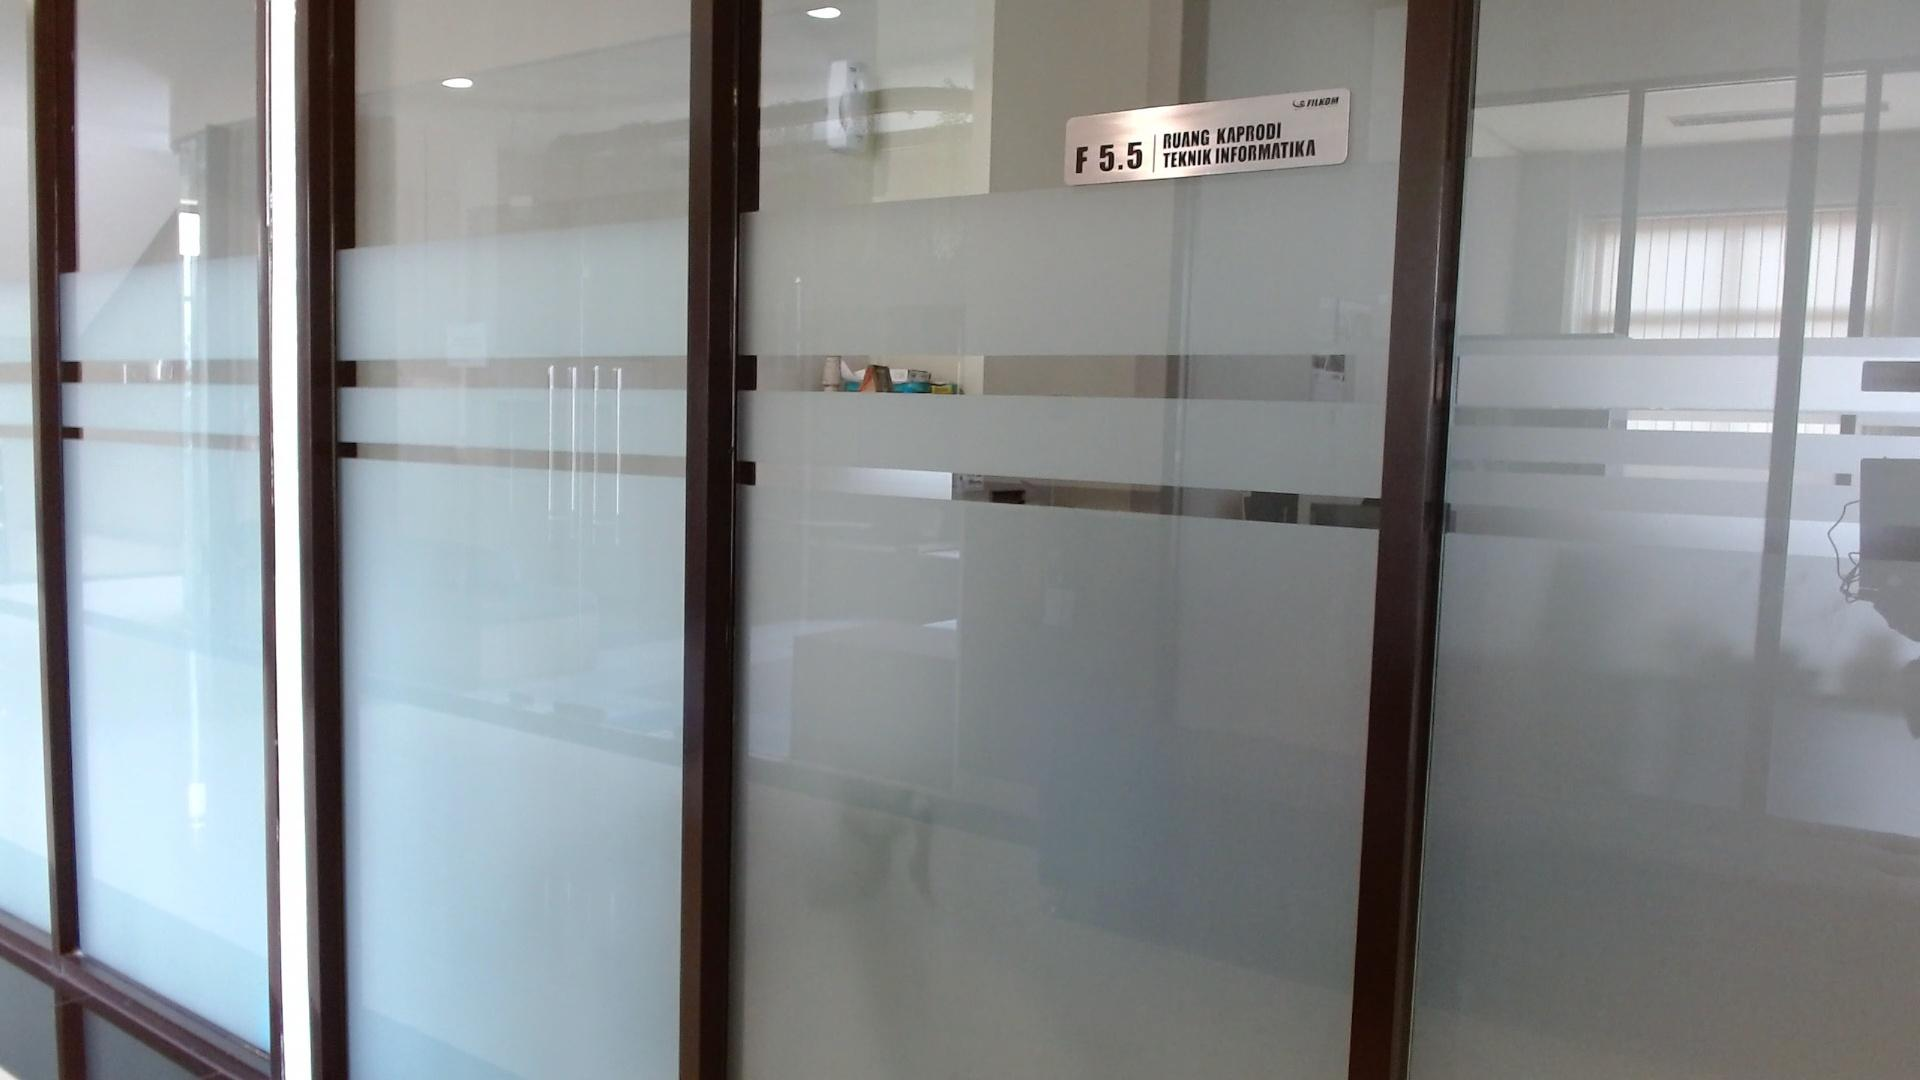plate: (1064, 87, 1353, 187)
